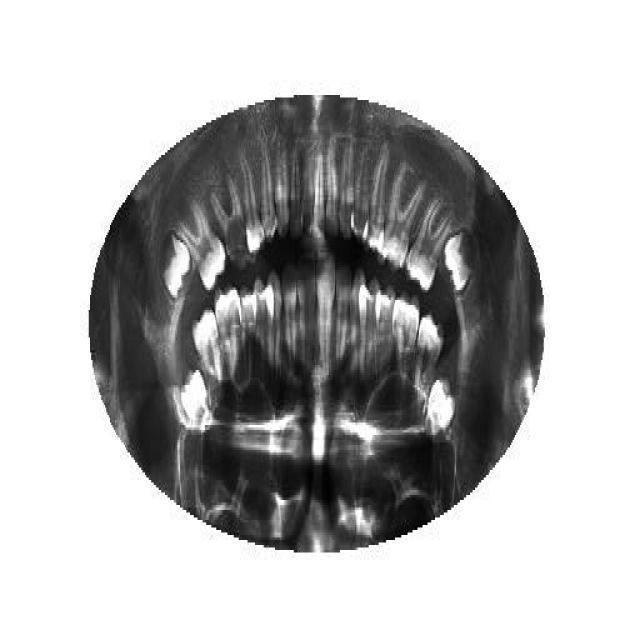Cavity: (211, 180, 255, 270)
Impacted Tooth: (440, 225, 479, 300)
